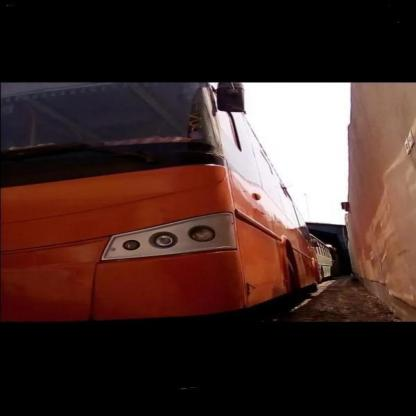Bus: (0, 83, 333, 316)
